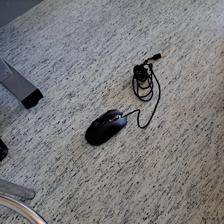mouse: (83, 109, 127, 146)
